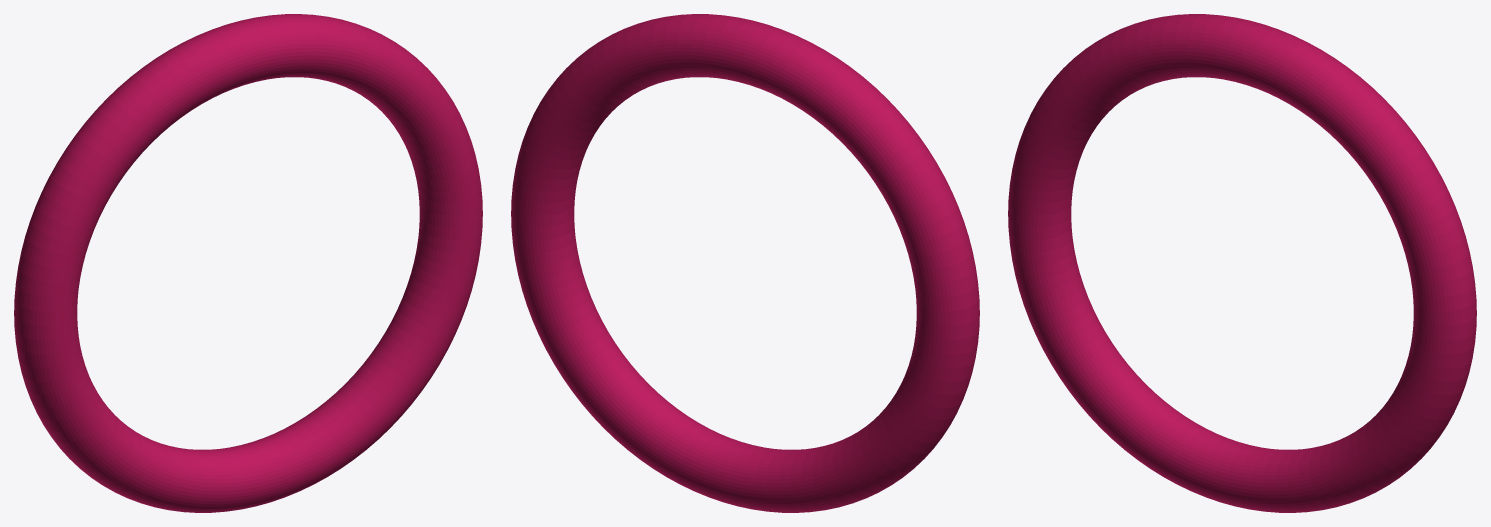
3 renders of one model, left to right at view 1: azimuth 30°, elevation 25°; view 2: azimuth 150°, elevation 25°; view 3: azimuth 330°, elevation 25°, orthographic.
Visible parts, largest first — view 1: world; view 2: world; view 3: world.
Boxes of the visible parts, bbox=[...] form: world: bbox=[14, 14, 482, 512]; world: bbox=[511, 14, 979, 512]; world: bbox=[1008, 14, 1476, 512].
Size of the model in its own units: 32.53 by 32.53 by 3.86.
